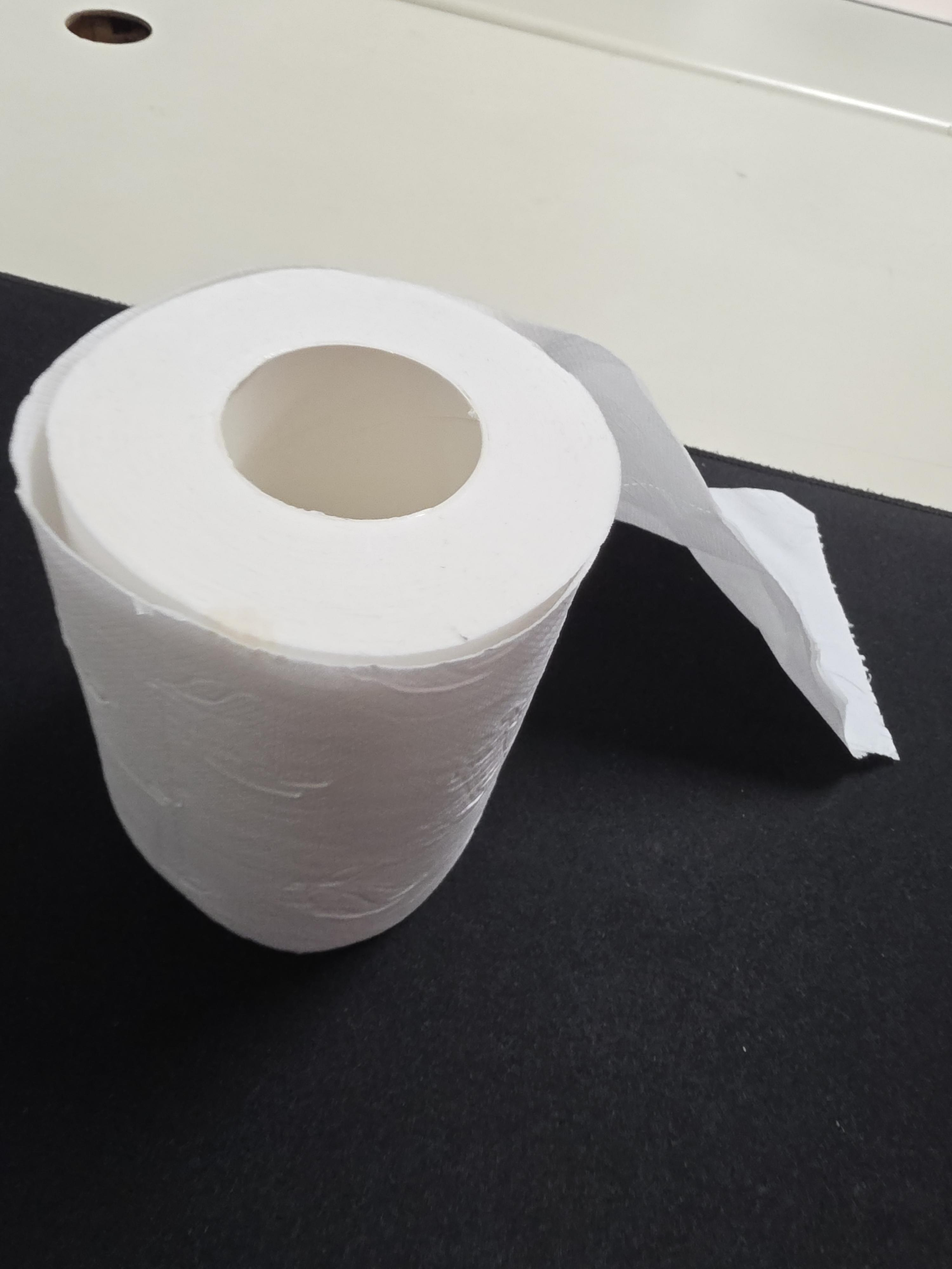tissue: (8, 267, 902, 957)
